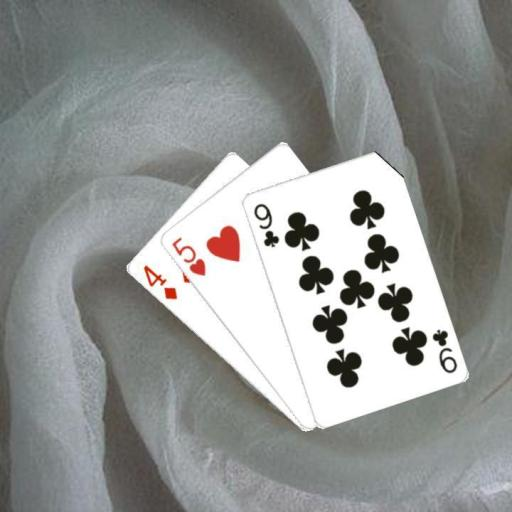card-corner: (168, 234, 207, 278), (249, 200, 281, 249), (140, 262, 178, 302), (428, 326, 459, 374)
